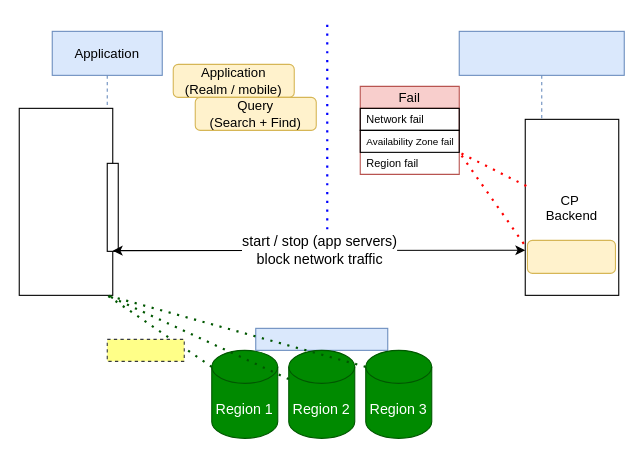
This 644x458 diagram has some shape labels left out. The box of each missing label's shape, as (x1, y1, x2, y2) in pixels:
App Backend: (18, 107, 113, 295)
Atlas: (255, 327, 388, 350)
Control Pane: (458, 30, 624, 295)
Python VPC Failover API: (526, 239, 615, 273)
Repeat Queries: (106, 338, 184, 361)
